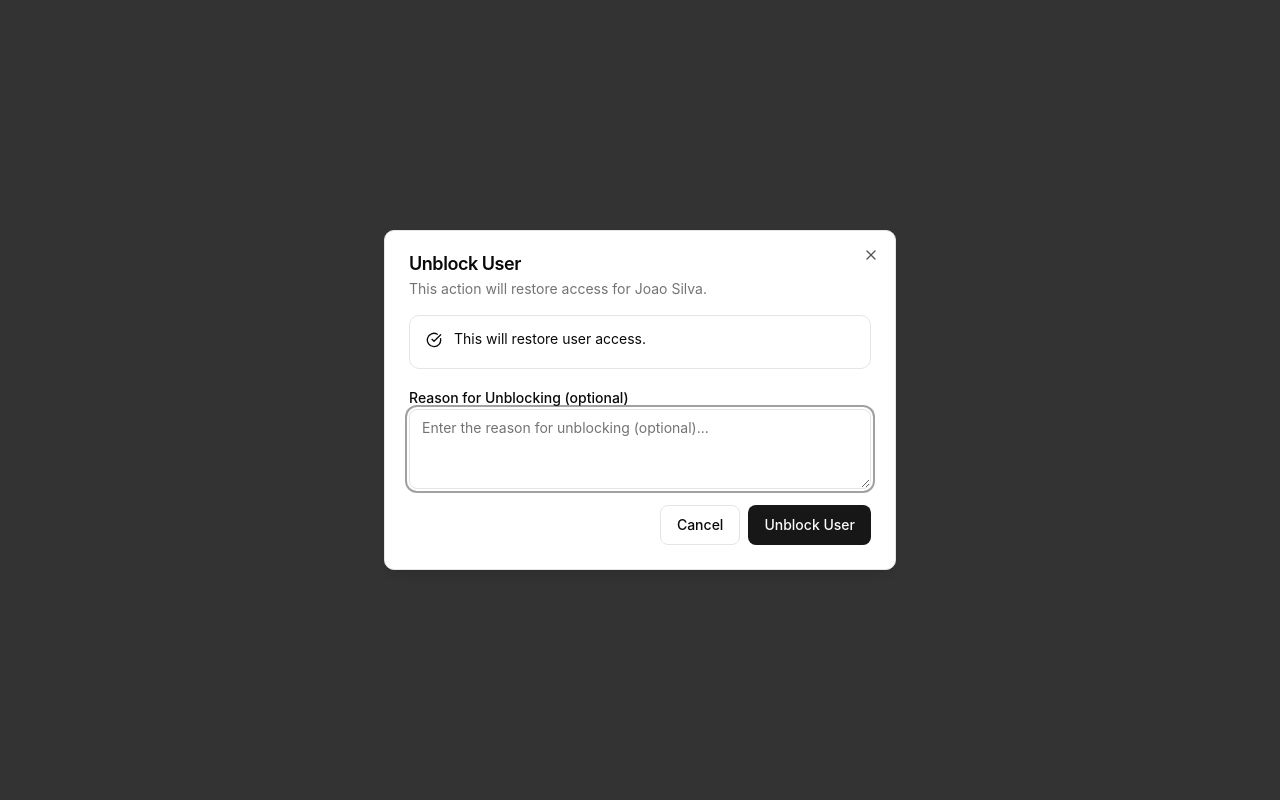
it: UnblockDialog › shows loading state during submit
Click the button "Unblock User". click: x=810, y=525
box: [748, 505, 871, 545]
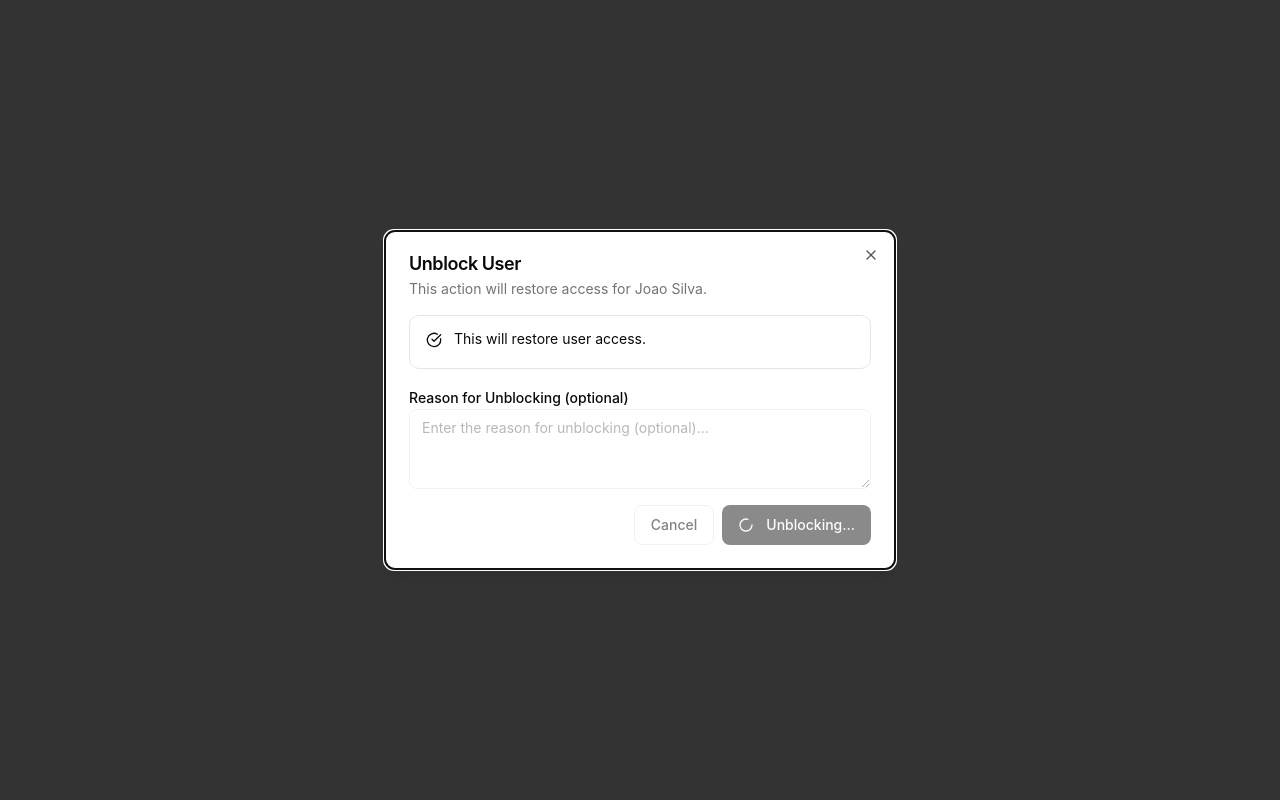
Expected: the button "Unblocking..." is disabled, [722, 505, 871, 545]
